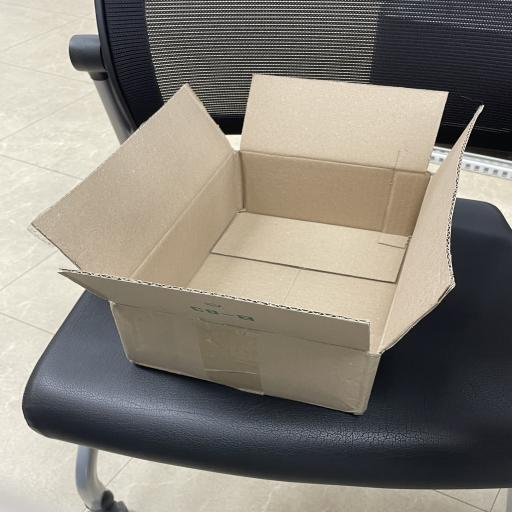box: (27, 73, 485, 416)
opened: (30, 73, 486, 354)
